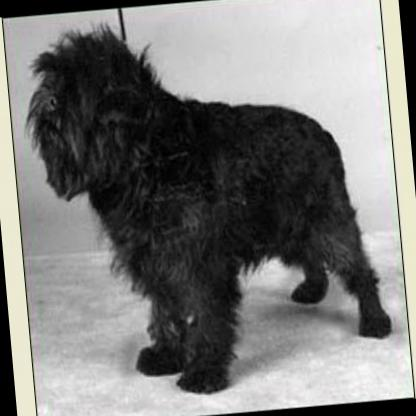affenpinscher: (18, 0, 395, 416)
